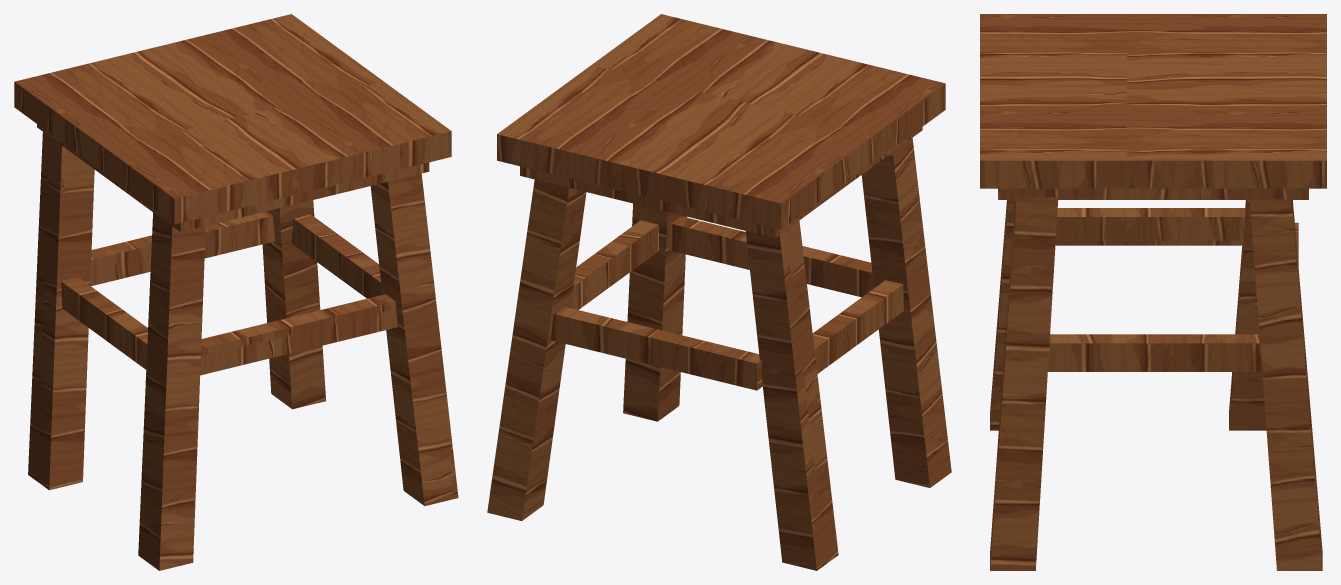
File: FRM0510008.fbx
3 views of the same model, side by side, from view 1: azimuth 30°, elevation 25°; view 2: azimuth 150°, elevation 25°; view 3: azimuth 270°, elevation 25° (orthographic). The views are drawn at different scales.
Parts seen in each view (by area): view 1: smFRM0510008; view 2: smFRM0510008; view 3: smFRM0510008.
Boxes of the visible parts, x1,y1,x2,y2 form: smFRM0510008: (14, 14, 458, 570); smFRM0510008: (487, 14, 951, 570); smFRM0510008: (980, 14, 1326, 570).
Size of the model in its own units: 63.13 by 75.22 by 58.5.
1 material, 1 textured.
